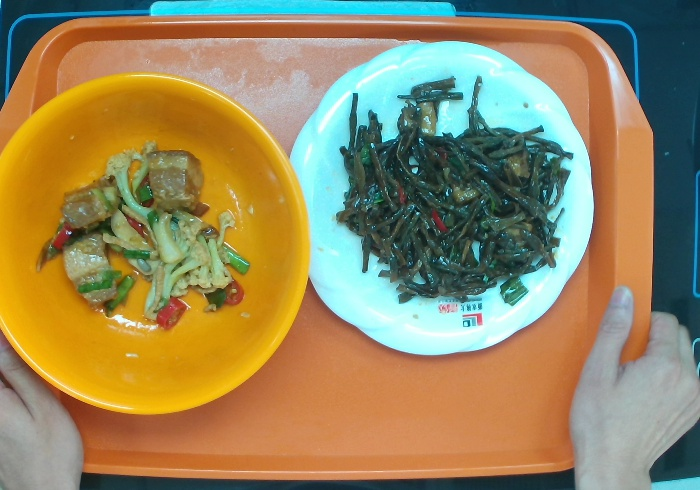ZNLD-Hua_Bian_Wan: (291, 31, 603, 364)
ZNLD-Ju_Se_Tang_Wan: (1, 65, 318, 422)
